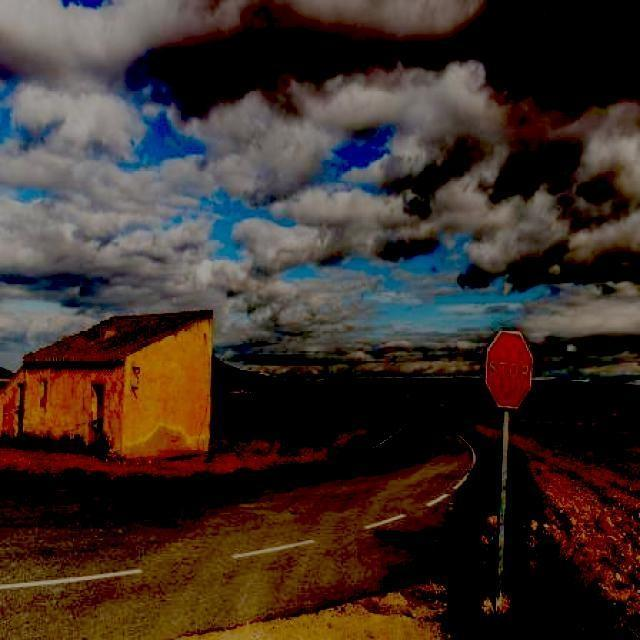Stop-Sign: (485, 331, 533, 409)
